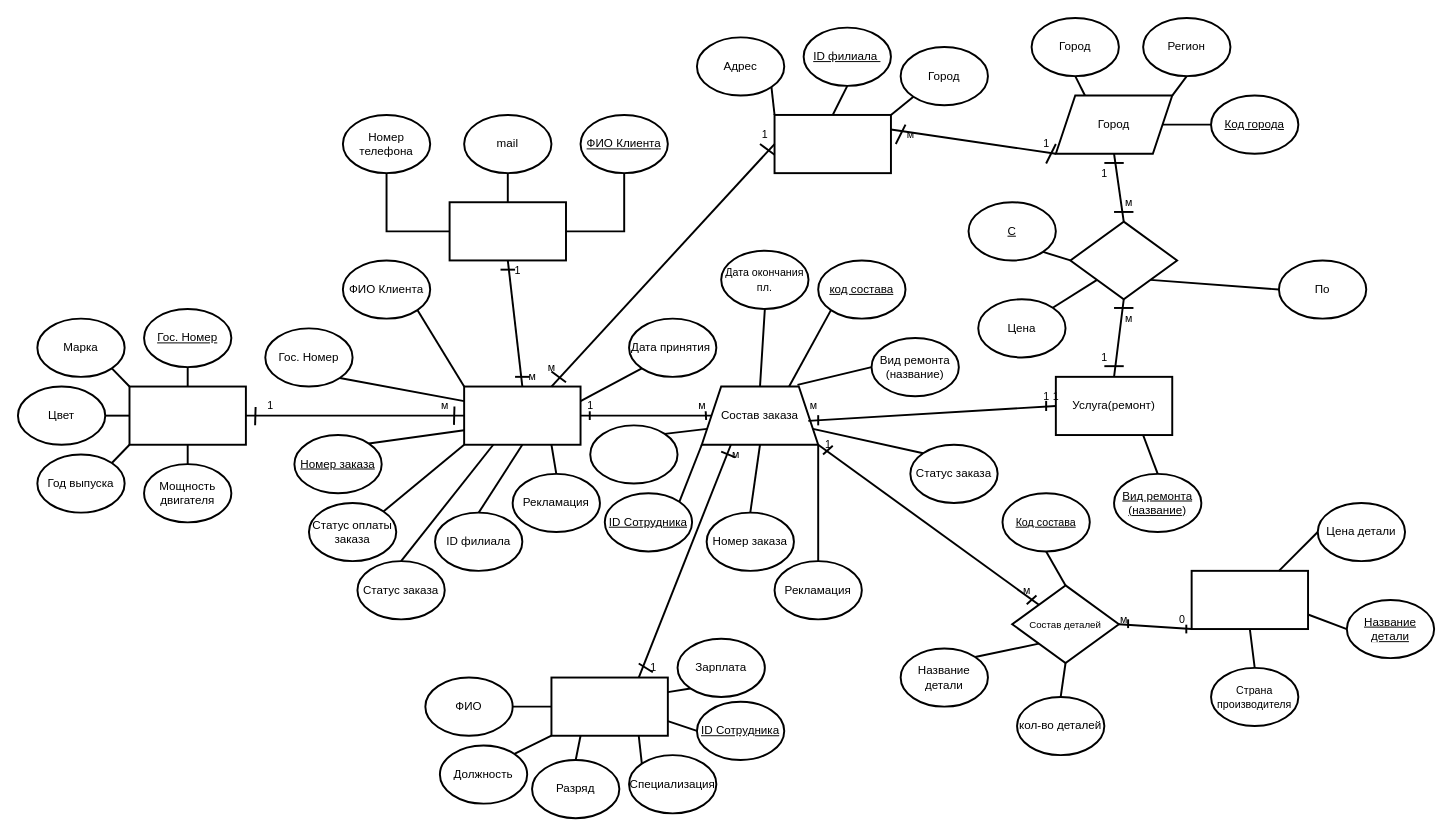
This 1451x835 diagram has some shape labels left out. Here are the shapes that lost their labels. From the top down, the centre of each, then its label:
the point at 832,143: Мастерская
the point at 507,231: Клиент
the point at 1123,260: Ценообразование
the point at 187,415: Автомобиль
the point at 522,415: Заказ
the point at 633,454: Фактическая отдача ав.
the point at 1249,599: Деталь
the point at 609,706: Сотрудник
